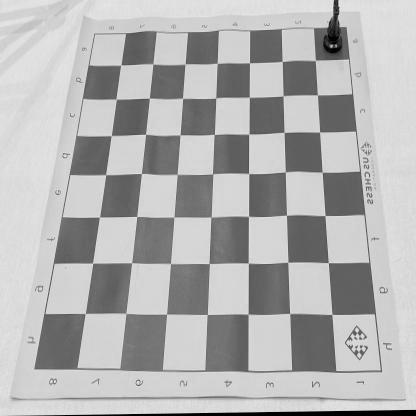black-knight: (324, 0, 344, 55)
